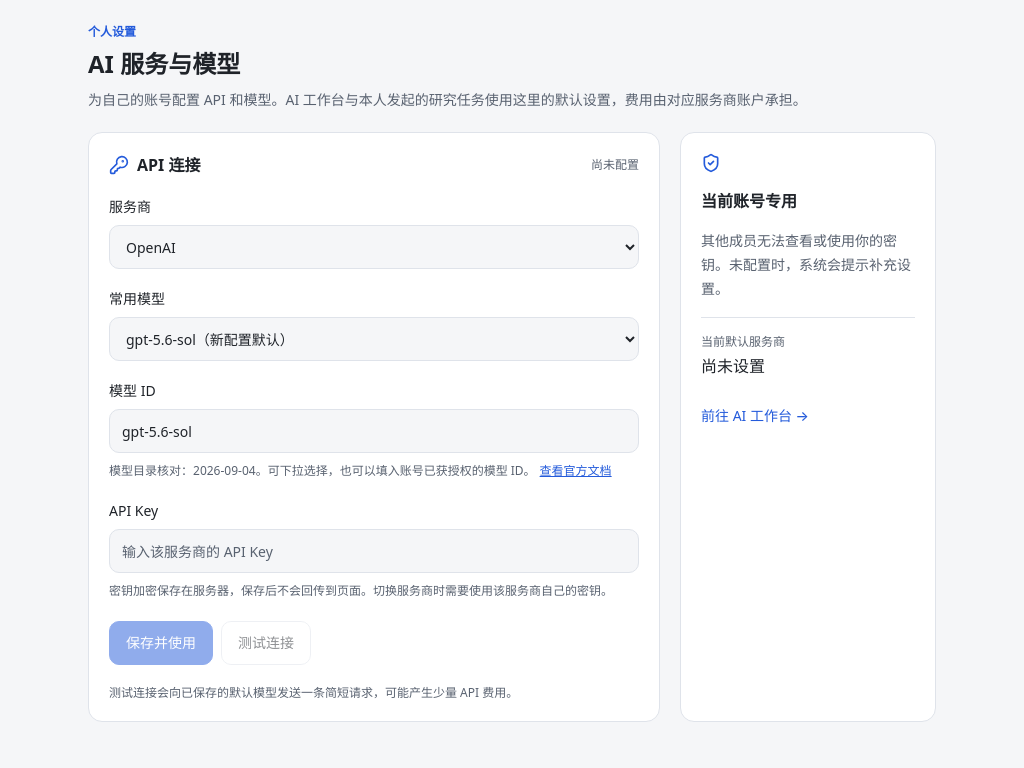
it: saves a personal provider and clears the secret from the form after success
Check: the password field labelled "API Key" is shown, box [109,529,639,573]
Replace the text in the field labelled "模型 ID" with "my-model" at (374, 431), box [109,409,639,453]
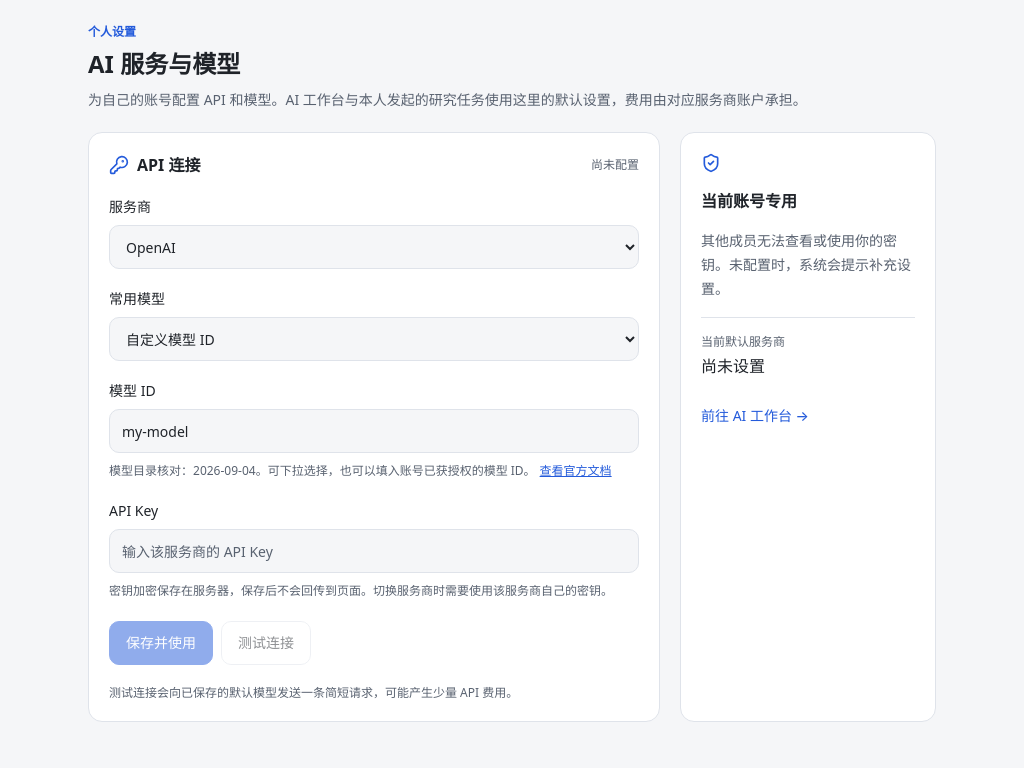
Type "private-test-key" into the password field labelled "API Key" at (374, 551), box [109,529,639,573]
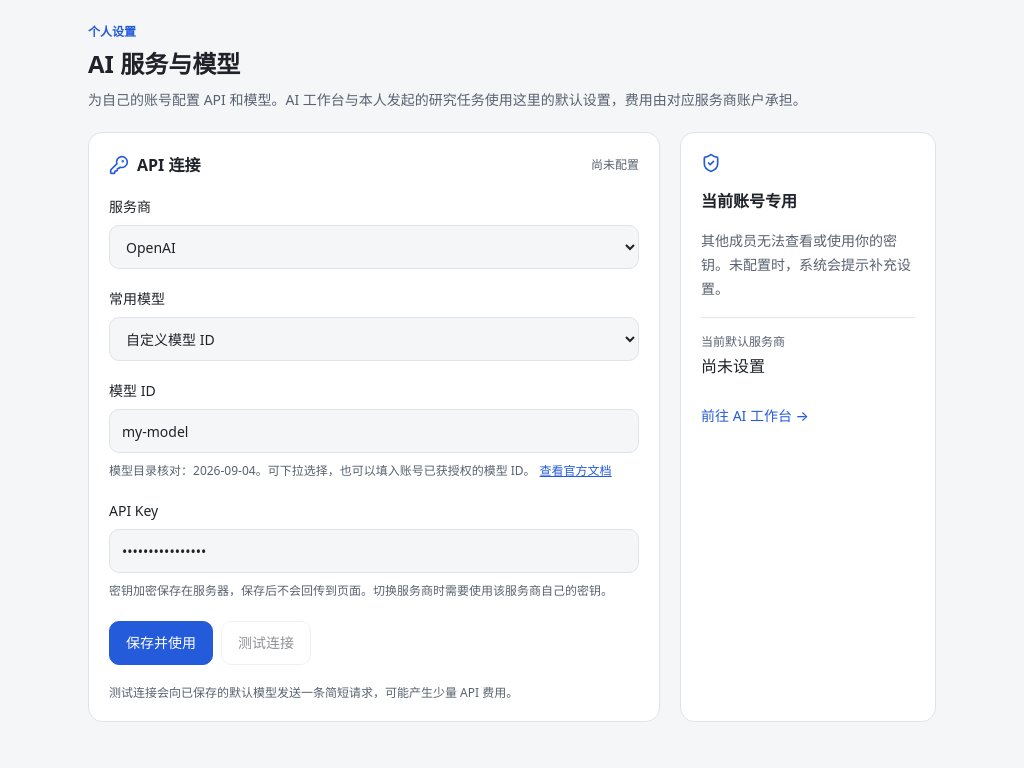
Click the button "保存并使用" at (161, 643), box [109,621,213,665]
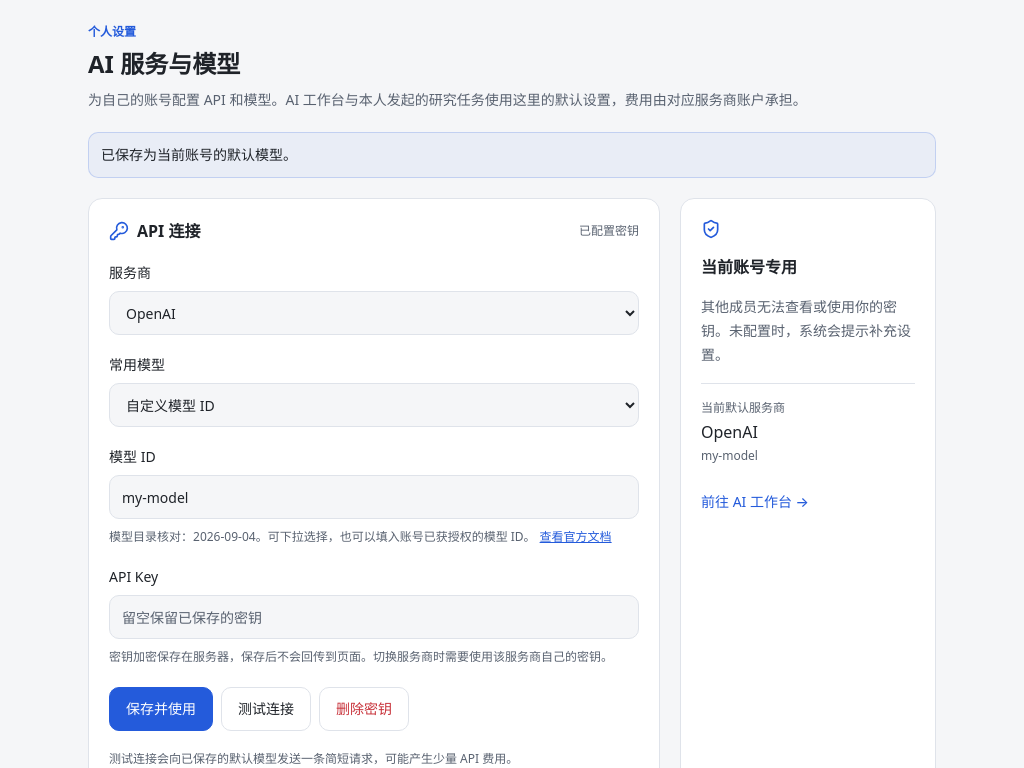
Check: the text "已保存为当前账号的默认模型。" is shown, box [88,132,936,178]
Check: the password field labelled "API Key" is empty, box [109,595,639,639]
